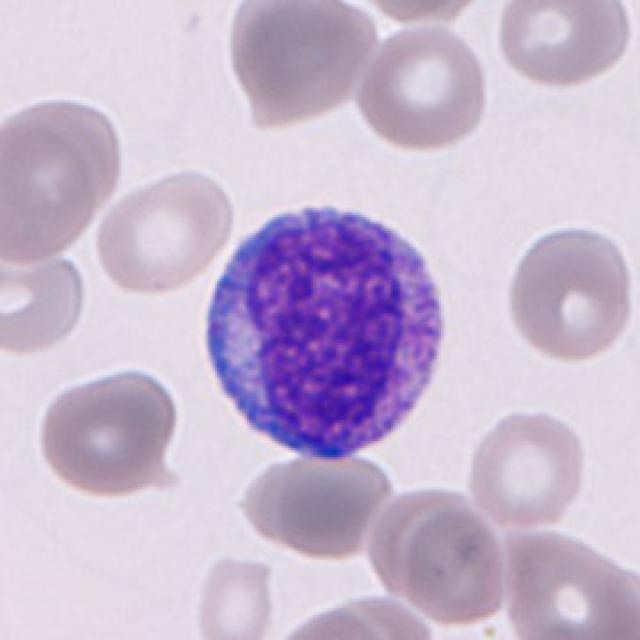Lymphocyte: (192, 189, 459, 475)
RBC: (32, 363, 188, 500), (499, 216, 640, 366), (91, 164, 238, 299), (222, 2, 382, 126), (231, 443, 397, 562), (352, 18, 492, 155), (499, 522, 638, 640), (0, 89, 130, 215), (464, 404, 590, 532), (2, 123, 103, 265), (400, 505, 512, 631), (490, 0, 636, 92), (2, 238, 89, 359), (188, 547, 279, 640), (311, 590, 441, 640), (268, 602, 385, 640), (352, 0, 494, 28)
